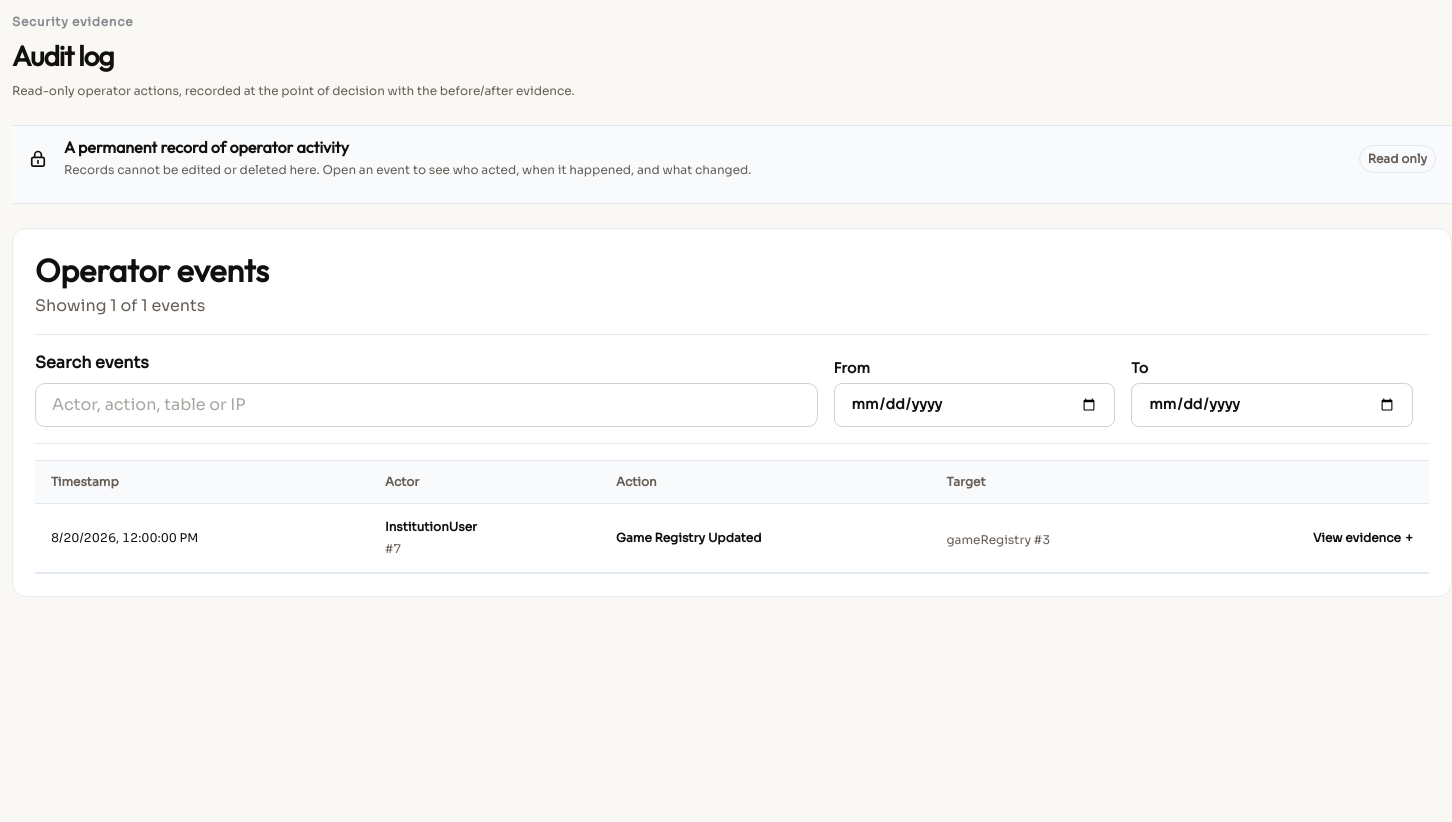
AuditLog › expands a real before/after diff computed from the stored snapshots
Expected: the column heading "Game Registry Updated" is shown, [600,504,930,572]
Click the button "View evidence +" at (1363, 538), box [1313,516,1413,560]
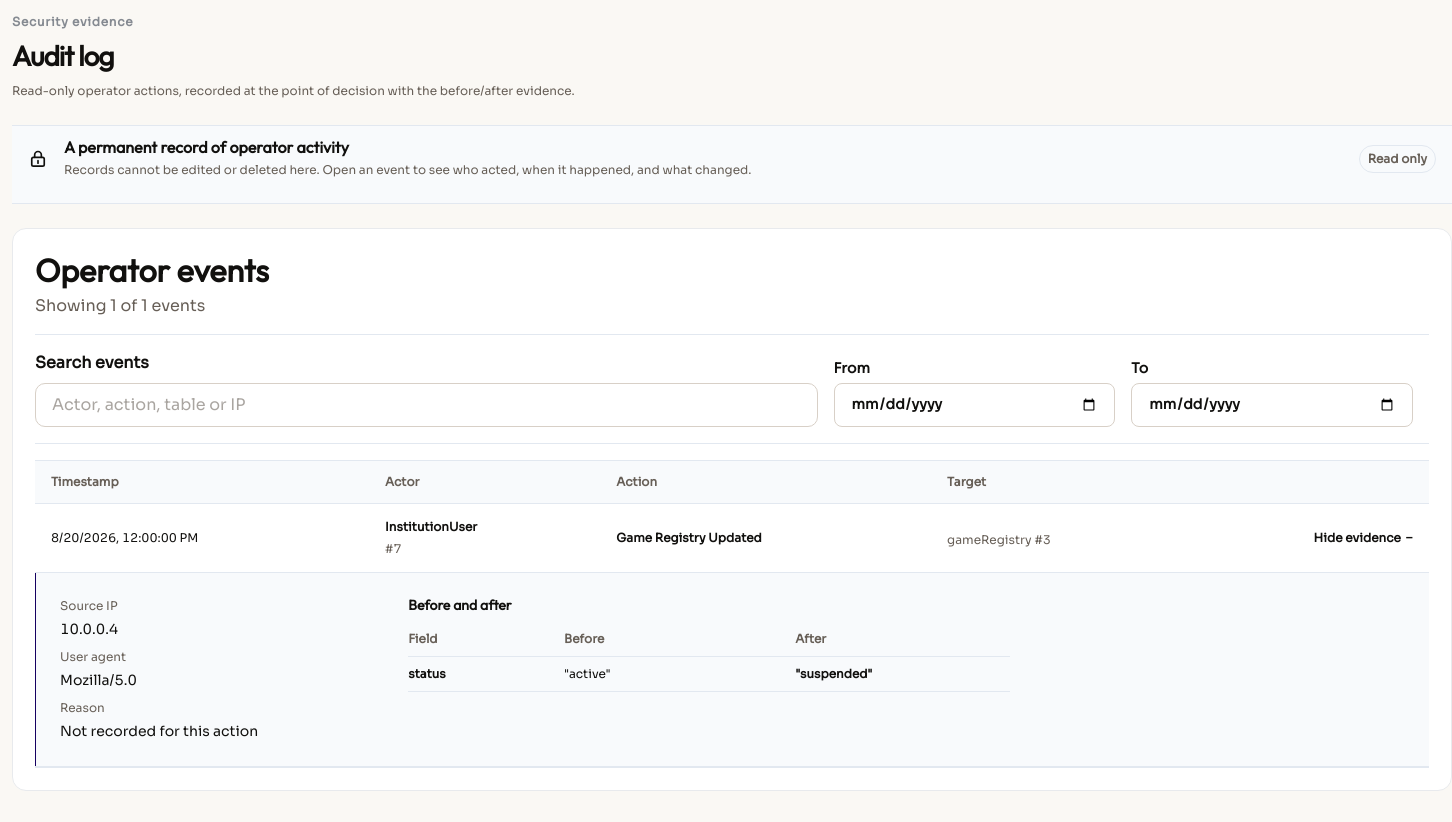
Expected: the text "status" is shown, [408,666,446,681]
Expected: the text "\"active\"" is shown, [564,666,611,681]
Expected: the text "\"suspended\"" is shown, [795,666,873,681]
